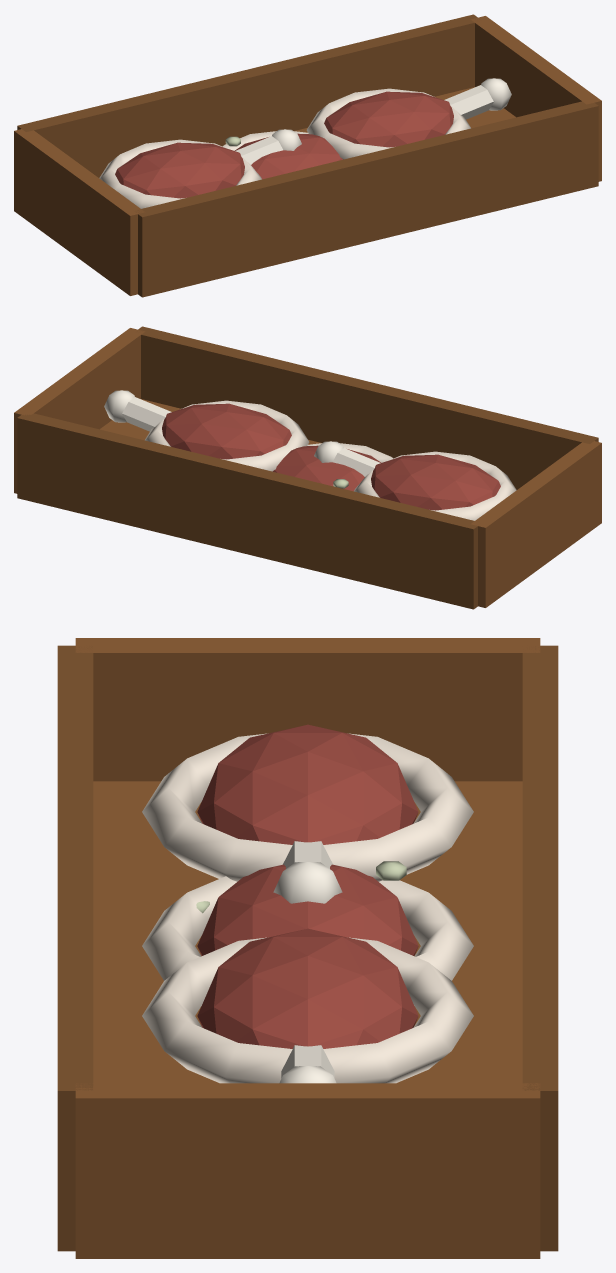
The model's file is Meat_Goat.fbx.
The picture shows the model from 3 angles, top to bottom: view 1: azimuth 30°, elevation 25°; view 2: azimuth 150°, elevation 25°; view 3: azimuth 270°, elevation 25°; orthographic projection. The views are drawn at different scales.
Parts seen in each view (by area): view 1: Meat_Goat__Stack, Meat_Goat; view 2: Meat_Goat__Stack, Meat_Goat; view 3: Meat_Goat__Stack, Meat_Goat.
Part boxes in pixels (x1,y1,x2,y2): Meat_Goat__Stack: [14, 14, 601, 297]; Meat_Goat: [223, 131, 342, 179]; Meat_Goat__Stack: [14, 326, 601, 609]; Meat_Goat: [273, 443, 392, 491]; Meat_Goat__Stack: [57, 638, 558, 1258]; Meat_Goat: [142, 864, 473, 980].
Size of the model in its own units: 0.2461 by 0.04 by 0.113.
